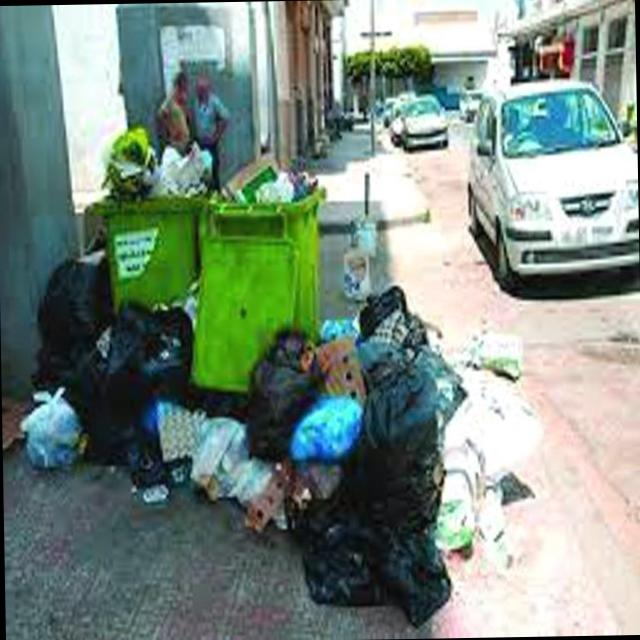high trash: (22, 259, 538, 624)
less trash: (343, 214, 377, 301)
